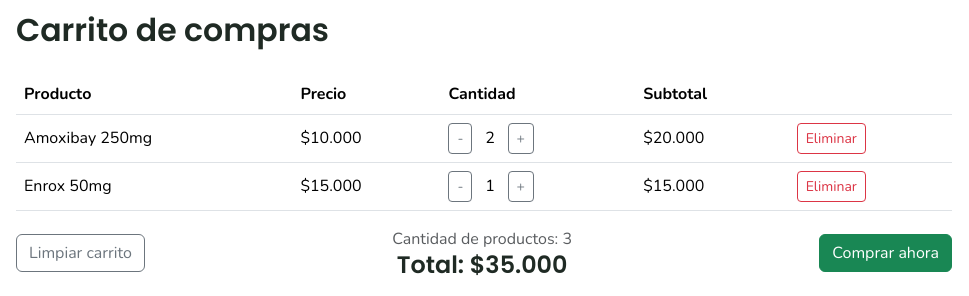
Test: Carrito (página) › el botón + aumenta la cantidad y el total
This screenshot has width=969, height=296.
Click the button named "Aumentar cantidad de Amoxibay 250mg" at (521, 138), box [508,123,534,154]
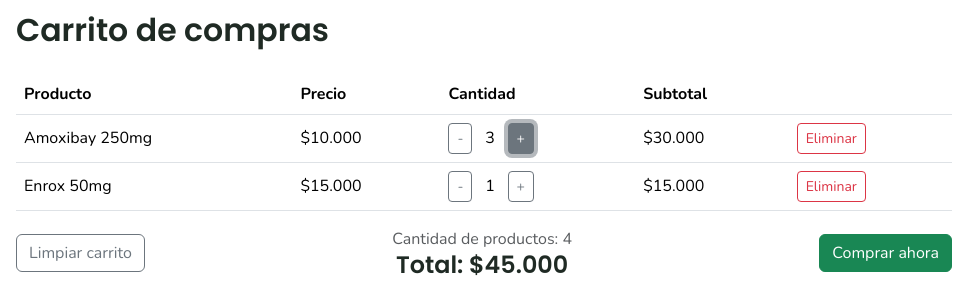
Expected: the heading with test id "total-carrito" reads "Total: $45.000", [392,251,572,280]
Expected: the text with test id "cantidad-carrito" reads "Cantidad de productos: 4", [392,227,572,251]
